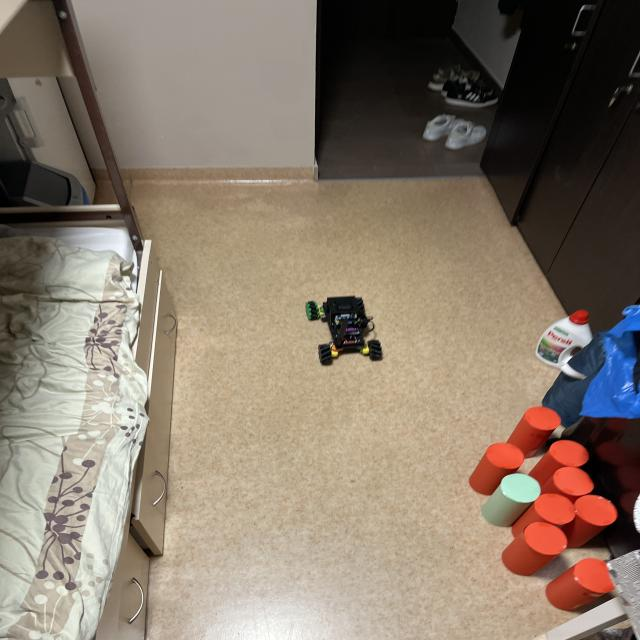robot: (306, 296, 382, 365)
